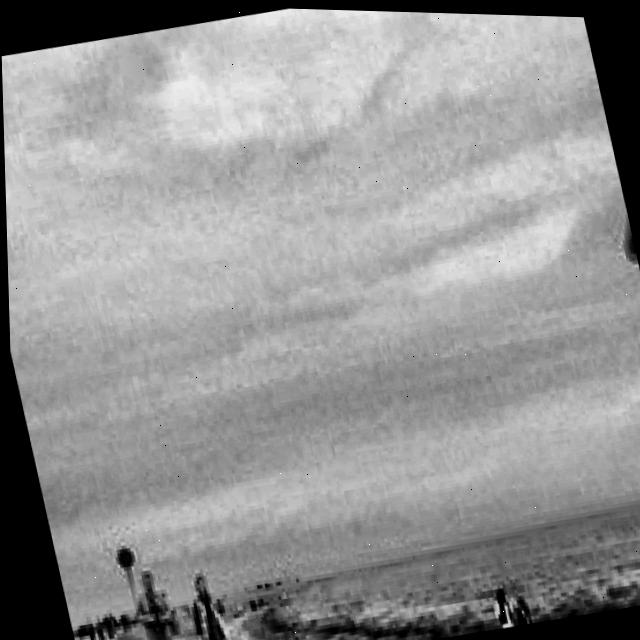light_vehicle: (69, 619, 89, 640)
